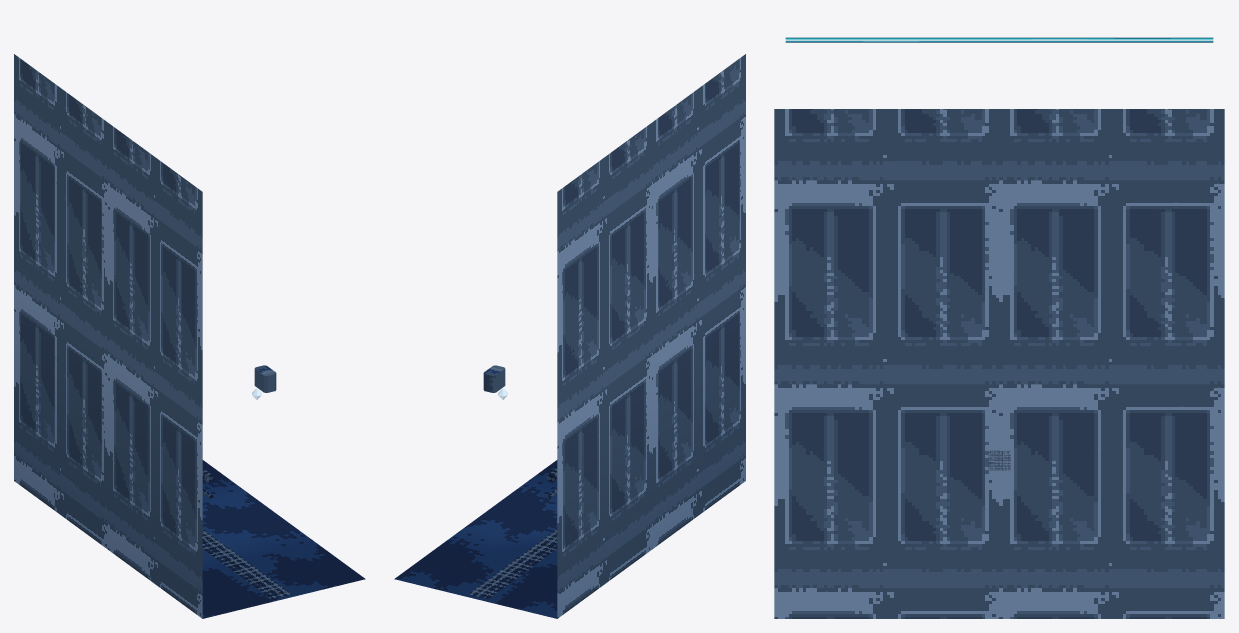
File: cystreet.alley.glb
The picture shows the model from 3 angles, left to right: view 1: azimuth 30°, elevation 25°; view 2: azimuth 150°, elevation 25°; view 3: azimuth 270°, elevation 25°; orthographic projection. The views are drawn at different scales.
Visible parts, largest first — view 1: kit_shell_walls, kit_shell_ground, kit_pipes; view 2: kit_shell_walls, kit_shell_ground, kit_pipes; view 3: kit_shell_walls, kit_card_neon.
Boxes of the visible parts, x1,y1,x2,y2 form: kit_shell_walls: [14, 54, 202, 618]; kit_shell_ground: [202, 460, 365, 618]; kit_pipes: [202, 365, 276, 499]; kit_shell_walls: [557, 54, 745, 618]; kit_shell_ground: [394, 460, 557, 618]; kit_pipes: [483, 365, 557, 499]; kit_shell_walls: [774, 109, 1224, 618]; kit_card_neon: [785, 37, 1213, 42].
Size of the model in its own units: 4 by 10 by 8.
5 materials, 5 textured.
